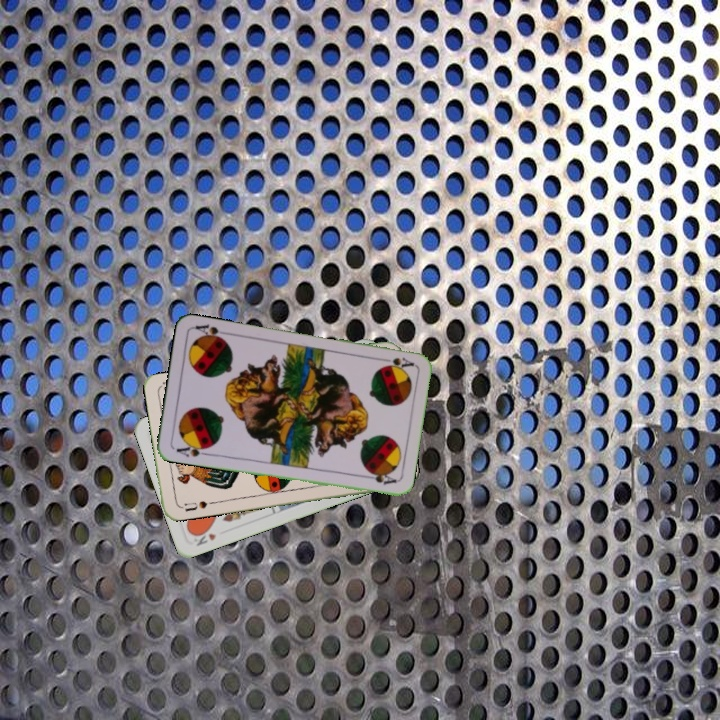HK: (188, 525, 219, 549)
SA: (172, 439, 212, 460), (376, 353, 417, 373)
SU: (180, 496, 216, 514)
